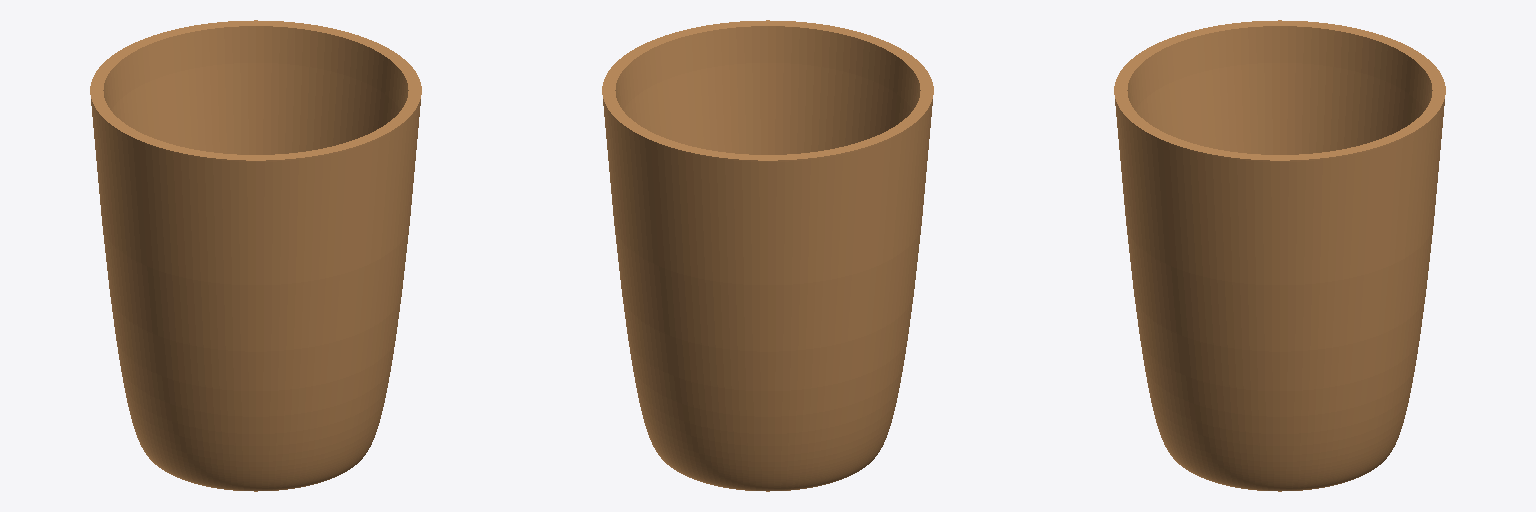
The robot description file, URDF, robot "Cup":
<?xml version="1.0"?>
                <robot name="Cup">
                <link name="base_link">
                    <visual>
                    <geometry>
                        <mesh filename="top_watertight_tiny.stl" scale="1.0 1.0 1.0"/>
                    </geometry>
                    <material name="object_material">
                        <color rgba="0.8 0.6 0.4 1.0"/>
                    </material>
                    </visual>
                    <collision>
                    <geometry>
                        <mesh filename="top_watertight_tiny.stl" scale="1.0 1.0 1.0"/>
                    </geometry>
                    </collision>
                    <inertial>
                    <mass value="1.0"/>
                    <inertia ixx="0.0008645141101686455" ixy="1.397285359586206e-06" ixz="-4.663927123823069e-06" iyy="0.0008694760591988159" iyz="-1.790187032941313e-06" izz="0.001181042698187731"/>
                    </inertial>
                </link>
                </robot>

--- What the picture shows (computed from the rendered views, not written in the file) ---
The picture shows the robot from 3 angles, left to right: view 1: azimuth 30°, elevation 25°; view 2: azimuth 150°, elevation 25°; view 3: azimuth 270°, elevation 25°; orthographic projection.
Model Cup with 1 links and 0 joints (none), rooted at base_link, posed every joint at zero.
Links seen in each view (by area): view 1: base_link; view 2: base_link; view 3: base_link.
Link boxes in pixels (x1,y1,x2,y2): base_link: [90, 20, 421, 491]; base_link: [602, 20, 933, 491]; base_link: [1114, 20, 1445, 491].
Bounding box of the posed robot: 0.0843 × 0.0843 × 0.0996 m (x, y, z).
Meshes: 1 distinct files referenced, 1 mesh visuals loaded (1 binary STL).